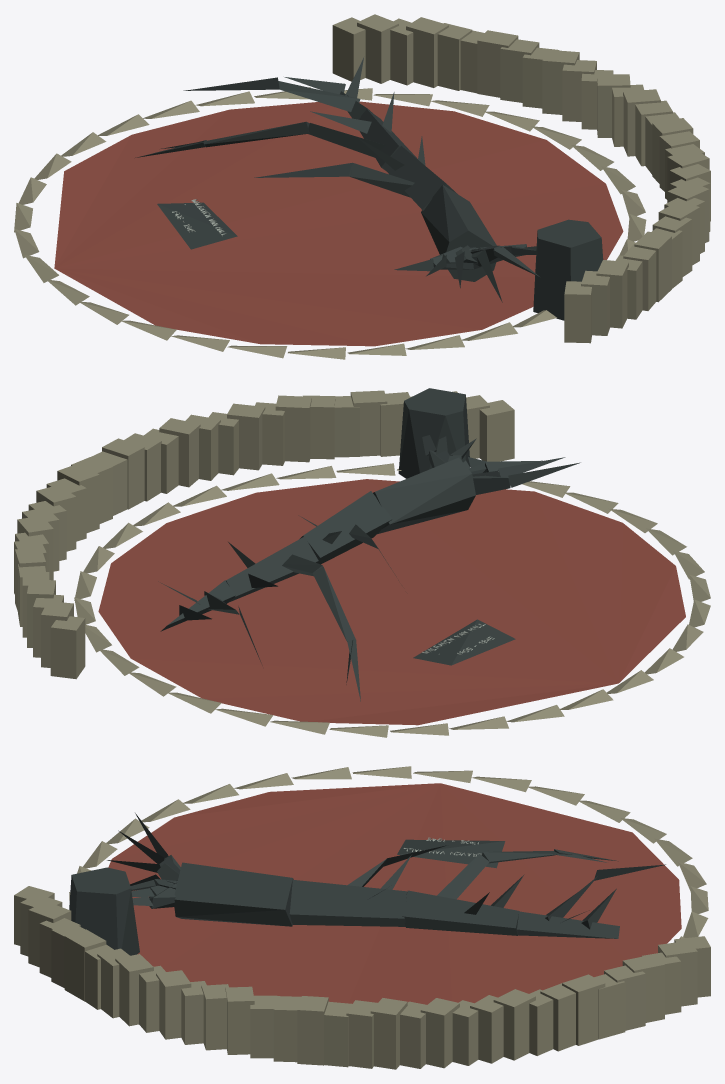
The model's file is walraven-van-hall.lod1.glb.
3 renders of one model, top to bottom at view 1: azimuth 30°, elevation 25°; view 2: azimuth 150°, elevation 25°; view 3: azimuth 270°, elevation 25°, orthographic.
Parts seen in each view (by area): view 1: walraven-van-hall; view 2: walraven-van-hall; view 3: walraven-van-hall.
Boxes of the visible parts, left/top/right/bottom form: walraven-van-hall: left=14, top=14, right=710, bottom=359; walraven-van-hall: left=14, top=388, right=710, bottom=737; walraven-van-hall: left=14, top=766, right=710, bottom=1069.
Size of the model in its own units: 10.44 by 1.2 by 10.32.
